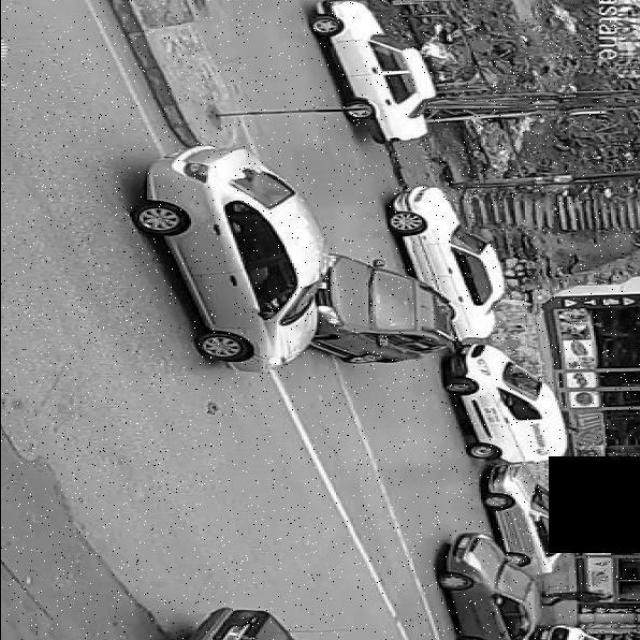accident: (129, 139, 463, 374)
